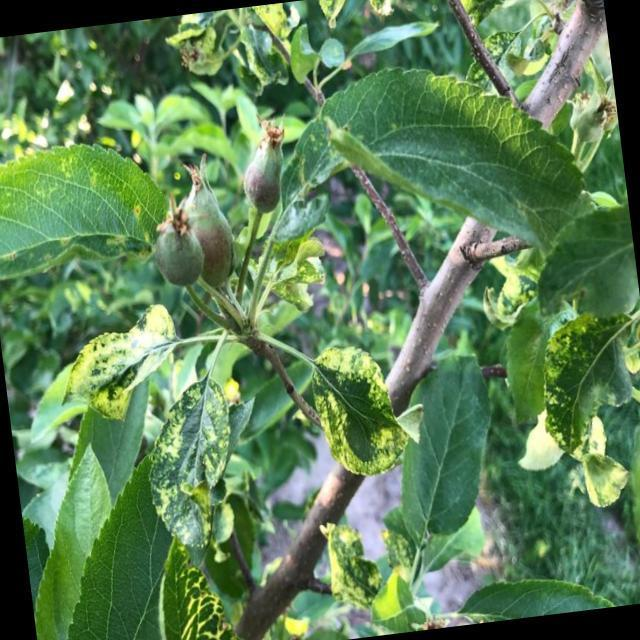Mosaic Virus: (47, 300, 188, 431), (304, 324, 422, 480), (526, 309, 640, 461), (146, 376, 243, 536), (159, 536, 244, 640), (318, 512, 384, 620)
